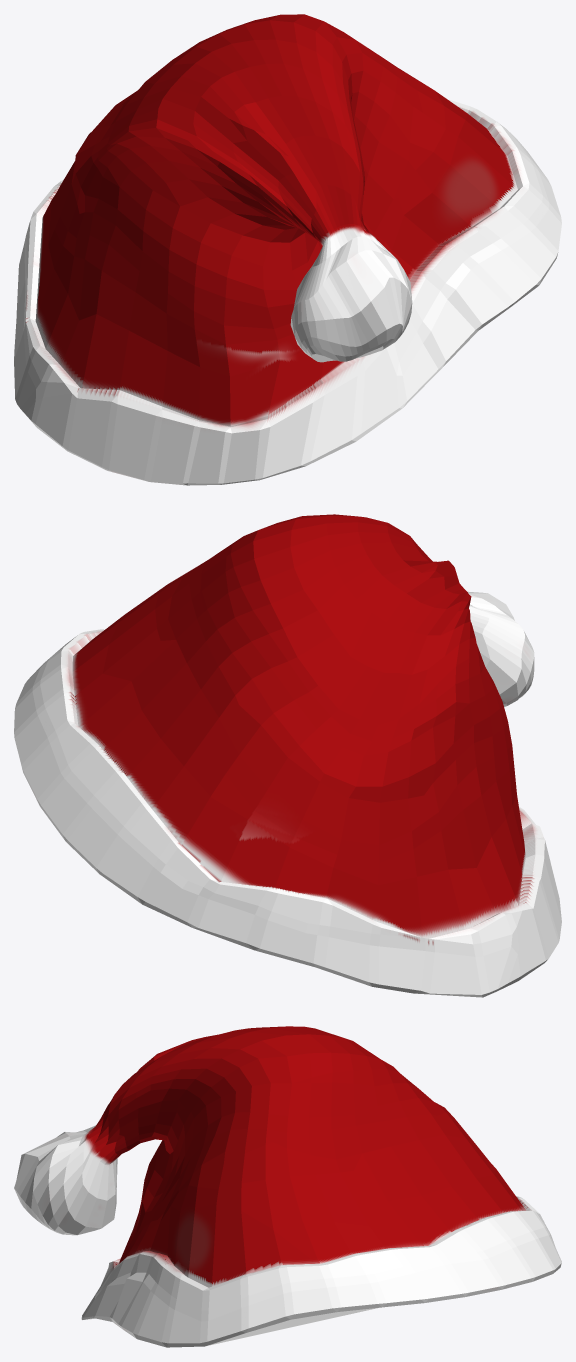
File: shapkafbx.fbx
The picture shows the model from 3 angles, top to bottom: view 1: azimuth 30°, elevation 25°; view 2: azimuth 150°, elevation 25°; view 3: azimuth 270°, elevation 25°; orthographic projection. The views are drawn at different scales.
Parts seen in each view (by area): view 1: Cone; view 2: Cone; view 3: Cone.
Boxes of the visible parts, <box> form: Cone: <box>14,14,561,485</box>; Cone: <box>14,514,561,997</box>; Cone: <box>14,1026,561,1347</box>.
Size of the model in its own units: 66.09 by 49 by 70.65.
1 material, 1 textured.
